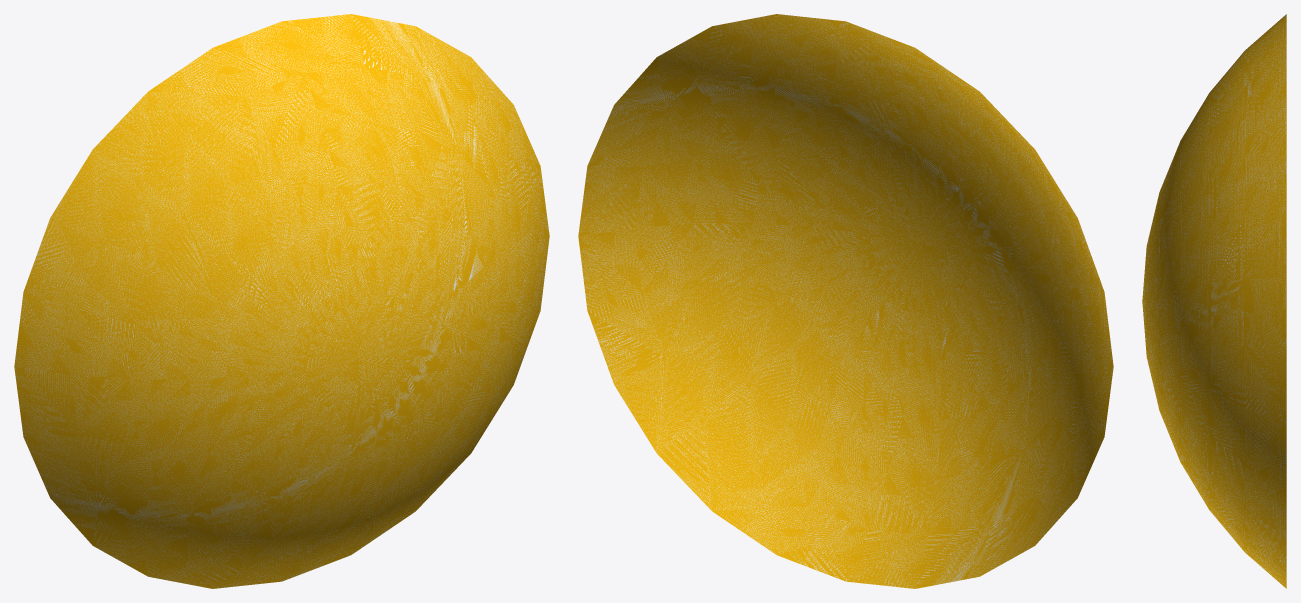
Rendered from original-48.obj.
The picture shows the model from 3 angles, left to right: view 1: azimuth 30°, elevation 25°; view 2: azimuth 150°, elevation 25°; view 3: azimuth 270°, elevation 25°; orthographic projection. The views are drawn at different scales.
Visible parts, largest first — view 1: Wooden_Plug5/Wooden_Plug12/mesh6/mesh6-geometry#mesh6-geometry; view 2: Wooden_Plug5/Wooden_Plug12/mesh6/mesh6-geometry#mesh6-geometry; view 3: Wooden_Plug5/Wooden_Plug12/mesh6/mesh6-geometry#mesh6-geometry.
Part boxes in pixels (x1,y1,x2,y2): Wooden_Plug5/Wooden_Plug12/mesh6/mesh6-geometry#mesh6-geometry: (14,14,549,588); Wooden_Plug5/Wooden_Plug12/mesh6/mesh6-geometry#mesh6-geometry: (578,14,1113,588); Wooden_Plug5/Wooden_Plug12/mesh6/mesh6-geometry#mesh6-geometry: (1142,14,1286,588).
Size of the model in its own units: 0.0221 by 0.0221 by 0.00552.
